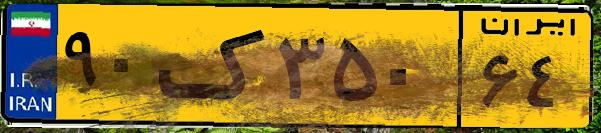0: (385, 28, 445, 110), (110, 28, 158, 98)
3: (270, 28, 330, 110)
4: (525, 38, 570, 115)
5: (330, 28, 385, 110)
6: (475, 38, 525, 113)
9: (57, 26, 110, 100)
ک: (158, 12, 270, 120)
